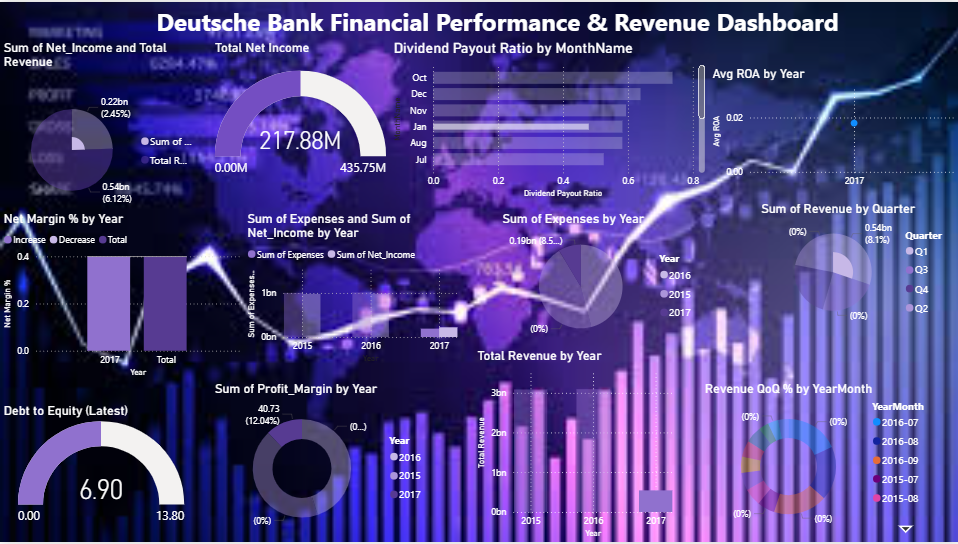

The dashboard page shown, as its layout file describes it:
{"tool":"powerbi","page":{"name":"Page 1","canvas":[1280,720],"ordinal":0},"visuals":[{"type":"donutChart","fields":{"Y":["DateTable.Revenue QoQ %"],"Category":["DateTable.YearMonth"]},"box":[935,505,320,210],"z":0},{"type":"pieChart","fields":{"Category":["deutsche_bank_financial_performance.Year"],"Y":["Sum(deutsche_bank_financial_performance.Expenses)"]},"box":[665,278.3,270,183.3],"z":1000},{"type":"pieChart","fields":{"Y":["Sum(deutsche_bank_financial_performance.Net_Income)","DateTable.Total Revenue"]},"box":[0,50,270,256.7],"z":2000},{"type":"pieChart","fields":{"Y":["Sum(deutsche_bank_financial_performance.Revenue)"],"Category":["DateTable.Quarter"]},"box":[1010,265,270,171.7],"z":3000},{"type":"waterfallChart","fields":{"Category":["deutsche_bank_financial_performance.Year"],"Y":["DateTable.Net Margin %"]},"box":[0,278.3,325,226.7],"z":4000},{"type":"gauge","fields":{"Y":["DateTable.Debt to Equity (Latest)"]},"box":[0,535,270,171.7],"z":5000},{"type":"barChart","fields":{"Y":["DateTable.Dividend Payout Ratio"],"Category":["DateTable.MonthName"]},"box":[520,50,425,216.7],"z":6000},{"type":"clusteredColumnChart","fields":{"Category":["deutsche_bank_financial_performance.Year"],"Y":["DateTable.Total Revenue"]},"box":[631.7,461.7,270,258.3],"z":7000},{"type":"lineChart","fields":{"Category":["deutsche_bank_financial_performance.Year"],"Y":["DateTable.Avg ROA"]},"box":[945,85,335,171.7],"z":8000},{"type":"gauge","fields":{"Y":["DateTable.Total Net Income"]},"box":[281.7,50,238.3,210],"z":9000},{"type":"donutChart","fields":{"Y":["Sum(deutsche_bank_financial_performance.Profit_Margin)"],"Category":["deutsche_bank_financial_performance.Year"]},"box":[281.7,505,293.3,215],"z":10000},{"type":"clusteredColumnChart","fields":{"Category":["deutsche_bank_financial_performance.Year"],"Y":["Sum(deutsche_bank_financial_performance.Expenses)","Sum(deutsche_bank_financial_performance.Net_Income)"]},"box":[325,278.3,290,208.3],"z":11000},{"type":"textbox","box":[163.3,0,1043.3,70],"z":11001}]}

Visuals, with their boxes in screenshot pixels (x1, y1, x2, y2), scaled from the page's 1280x720 canvas onto the 958x544 screenshot:
donutChart - DateTable.Revenue QoQ % x DateTable.YearMonth: x1=700, y1=382, x2=939, y2=540
pieChart - deutsche_bank_financial_performance.Year x Sum(deutsche_bank_financial_performance.Expenses): x1=498, y1=210, x2=700, y2=349
pieChart - Sum(deutsche_bank_financial_performance.Net_Income) x DateTable.Total Revenue: x1=0, y1=38, x2=202, y2=232
pieChart - Sum(deutsche_bank_financial_performance.Revenue) x DateTable.Quarter: x1=756, y1=200, x2=957, y2=330
waterfallChart - deutsche_bank_financial_performance.Year x DateTable.Net Margin %: x1=0, y1=210, x2=243, y2=382
gauge - DateTable.Debt to Equity (Latest): x1=0, y1=404, x2=202, y2=534
barChart - DateTable.Dividend Payout Ratio x DateTable.MonthName: x1=389, y1=38, x2=707, y2=202
clusteredColumnChart - deutsche_bank_financial_performance.Year x DateTable.Total Revenue: x1=473, y1=349, x2=675, y2=543
lineChart - deutsche_bank_financial_performance.Year x DateTable.Avg ROA: x1=707, y1=64, x2=957, y2=194
gauge - DateTable.Total Net Income: x1=211, y1=38, x2=389, y2=196
donutChart - Sum(deutsche_bank_financial_performance.Profit_Margin) x deutsche_bank_financial_performance.Year: x1=211, y1=382, x2=430, y2=543
clusteredColumnChart - deutsche_bank_financial_performance.Year x Sum(deutsche_bank_financial_performance.Expenses): x1=243, y1=210, x2=460, y2=368
textbox: x1=122, y1=0, x2=903, y2=53
